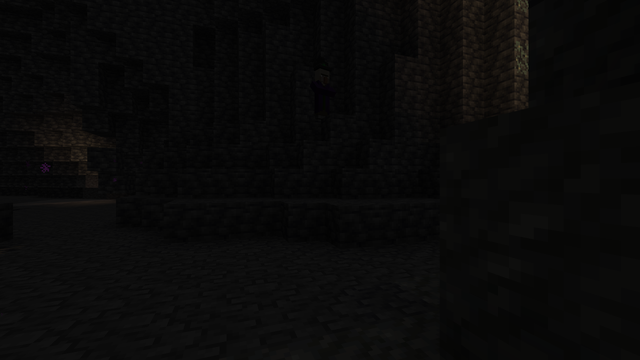sorcieres: (312, 65, 330, 119)
